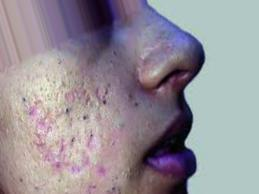Acne: (21, 101, 66, 167)
